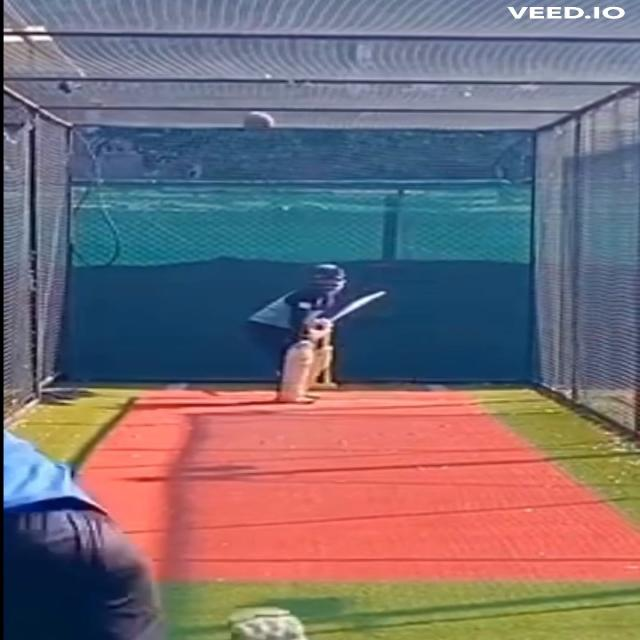ball: (238, 111, 277, 133)
